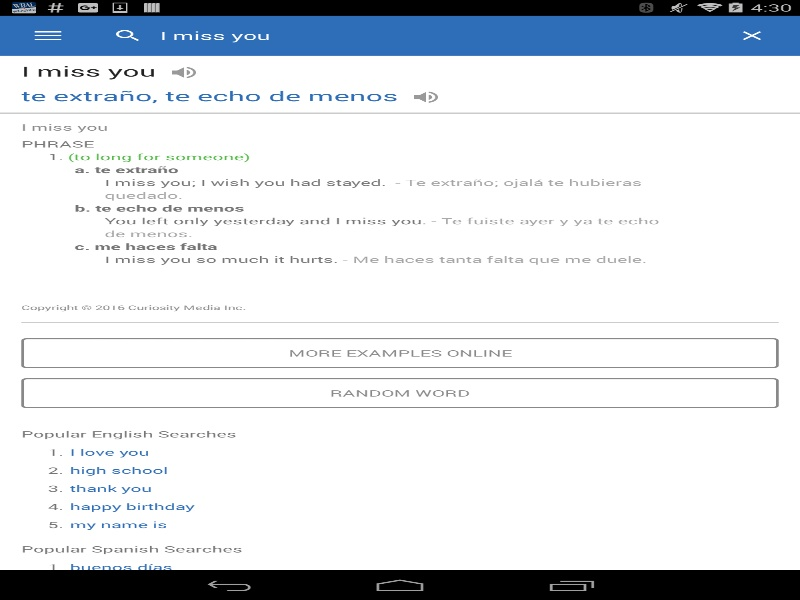Button: (21, 338, 778, 368), (21, 378, 778, 408), (10, 15, 85, 55), (156, 63, 196, 78), (398, 88, 438, 102)
Input: (149, 24, 725, 46)
